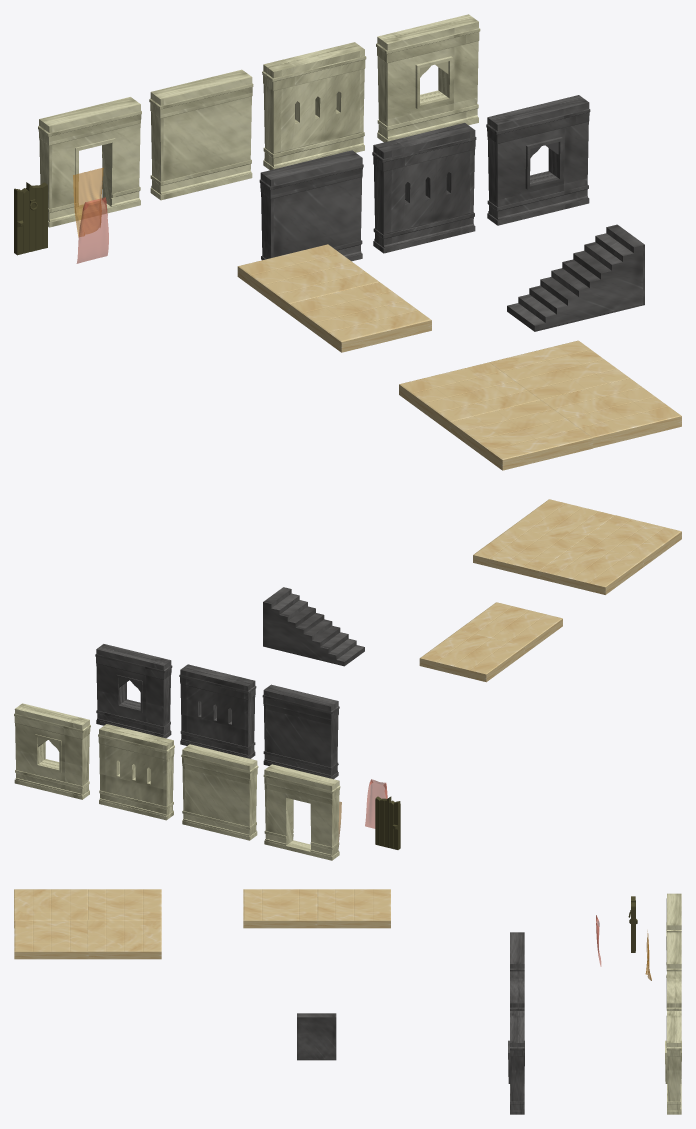
The model's file is HOUSE BLOCKS TEXTURED.fbx.
3 renders of one model, top to bottom at view 1: azimuth 30°, elevation 25°; view 2: azimuth 150°, elevation 25°; view 3: azimuth 270°, elevation 25°, orthographic. The views are drawn at different scales.
Visible parts, largest first — view 1: Cube.036, Cube.008, Cube.030, Cube.031, Cube.009, Cube.032, Cube.033, Cube.007, Cube.011, Cube.029, Cube.013, Cube.034 (+2 smaller); view 2: Cube.036, Cube.030, Cube.031, Cube.008, Cube.007, Cube.032, Cube.009, Cube.033, Cube.011, Cube.013, Cube.029, Cube.034 (+1 smaller); view 3: Cube.036, Cube.029, Cube.013, Cube.011, Cube.032, Cube.009, Cube.033, Cube.031, Cube.030, Cube.007, Cube.008.
Part boxes in pixels (x1,y1,x2,y2): Cube.036: [399, 340, 681, 470]; Cube.008: [372, 123, 476, 253]; Cube.030: [149, 69, 253, 200]; Cube.031: [262, 42, 366, 170]; Cube.009: [486, 95, 590, 225]; Cube.032: [376, 14, 480, 142]; Cube.033: [38, 97, 141, 227]; Cube.007: [259, 150, 363, 261]; Cube.011: [507, 224, 644, 331]; Cube.029: [290, 282, 431, 352]; Cube.013: [237, 244, 378, 314]; Cube.034: [14, 182, 47, 255]; Cube.036: [473, 499, 681, 594]; Cube.030: [181, 744, 258, 840]; Cube.031: [98, 724, 174, 820]; Cube.008: [179, 664, 256, 758]; Cube.007: [262, 684, 339, 779]; Cube.032: [14, 703, 90, 799]; Cube.009: [95, 644, 172, 738]; Cube.033: [263, 764, 340, 860]; Cube.011: [263, 587, 364, 666]; Cube.013: [419, 630, 524, 682]; Cube.029: [458, 602, 562, 653]; Cube.034: [375, 796, 400, 849]; Cube.036: [14, 889, 161, 959]; Cube.029: [243, 889, 317, 928]; Cube.013: [317, 889, 390, 928]; Cube.011: [297, 1013, 336, 1060]; Cube.032: [665, 1011, 681, 1114]; Cube.009: [508, 1011, 524, 1114]; Cube.033: [666, 893, 681, 977]; Cube.031: [666, 971, 681, 1010]; Cube.030: [666, 932, 681, 971]; Cube.007: [510, 932, 524, 971]; Cube.008: [510, 971, 524, 1010].
Bounding box in the file's own units: 2040 × 3396 × 432.
6 materials, 3 textured.
